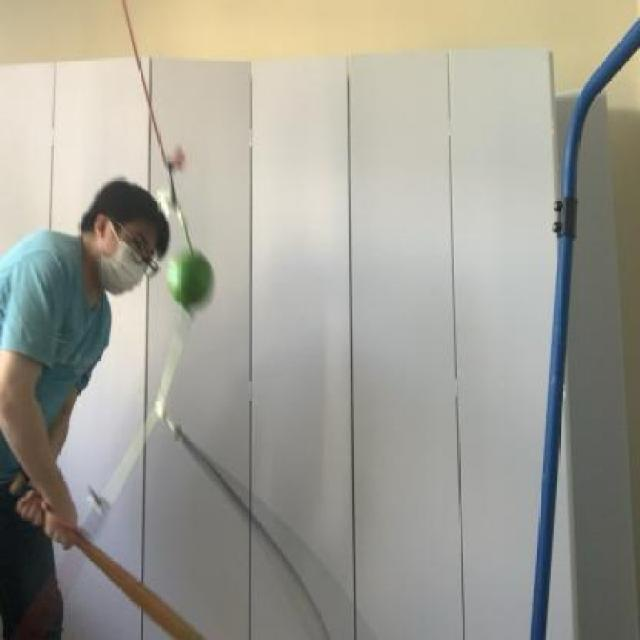baseball: (165, 242, 226, 327)
